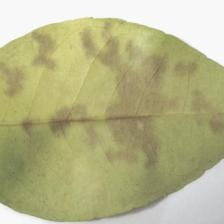black spot: (29, 46, 164, 156)
